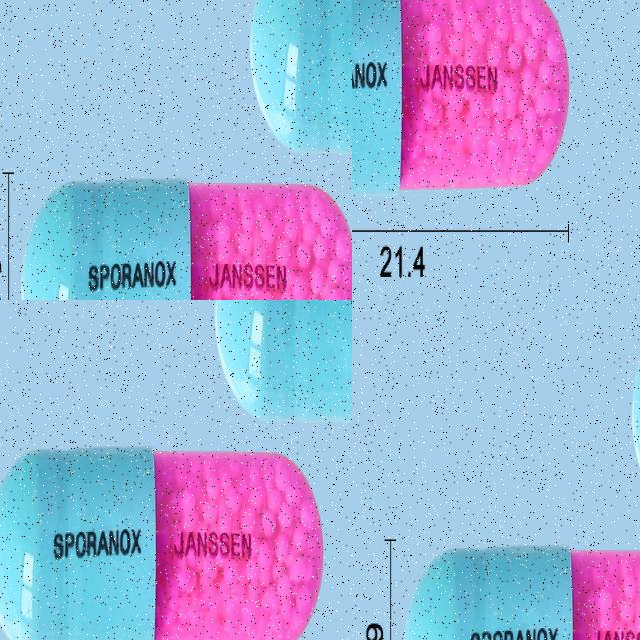Doxymedi: (21, 0, 268, 300)
Moveloxin: (352, 0, 520, 193)
Suprax Cap- Dong-A: (402, 546, 640, 640)
TaeJoon Levofloxacin Tab: (0, 432, 324, 640), (208, 300, 352, 419)
